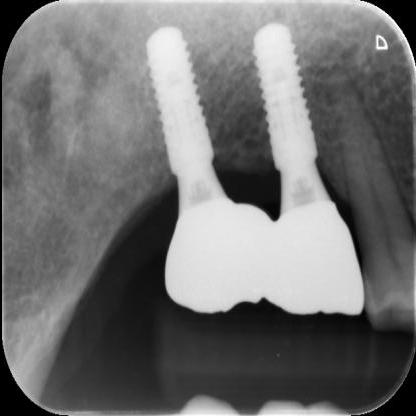ITI: (242, 18, 320, 172), (140, 24, 220, 173)
